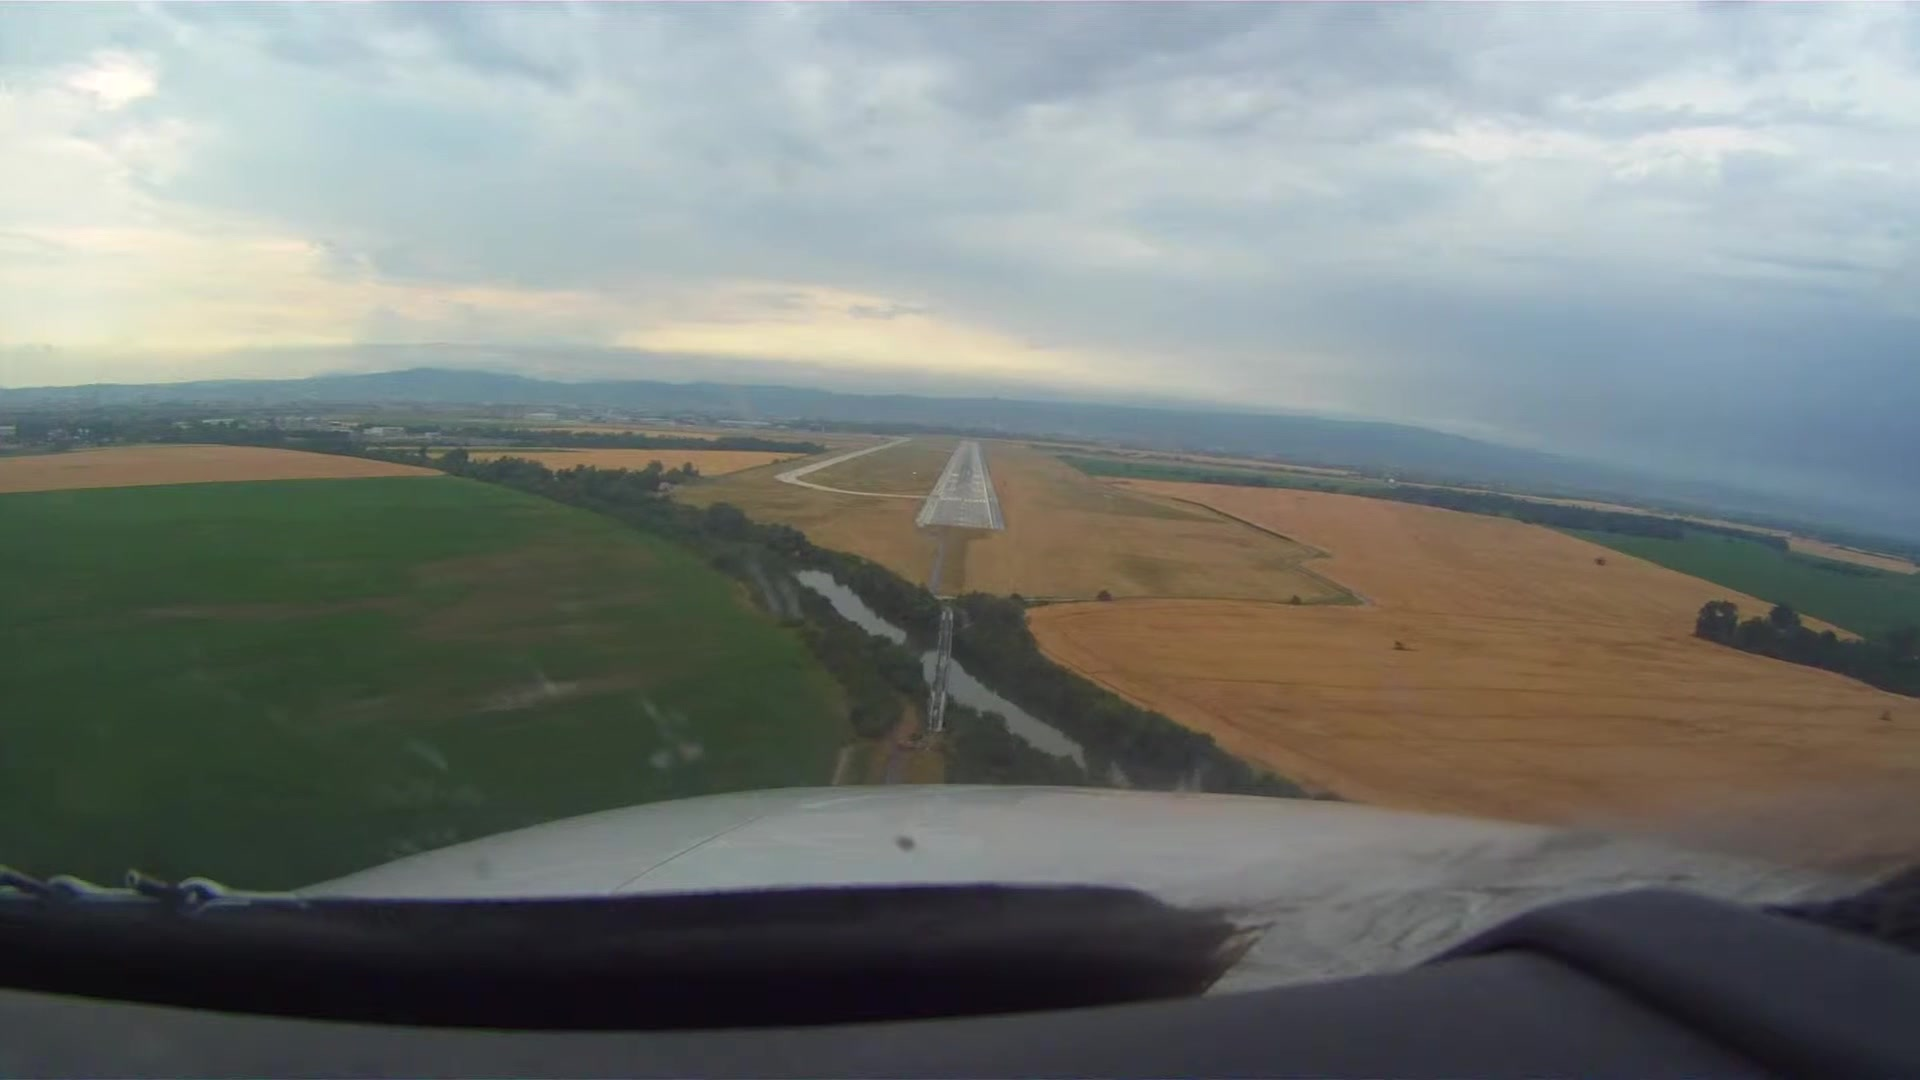entrance: (940, 492, 990, 506)
runway: (916, 443, 1002, 527)
